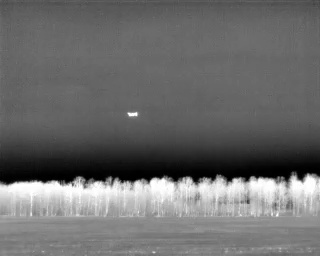DRONE: (123, 106, 143, 122)
